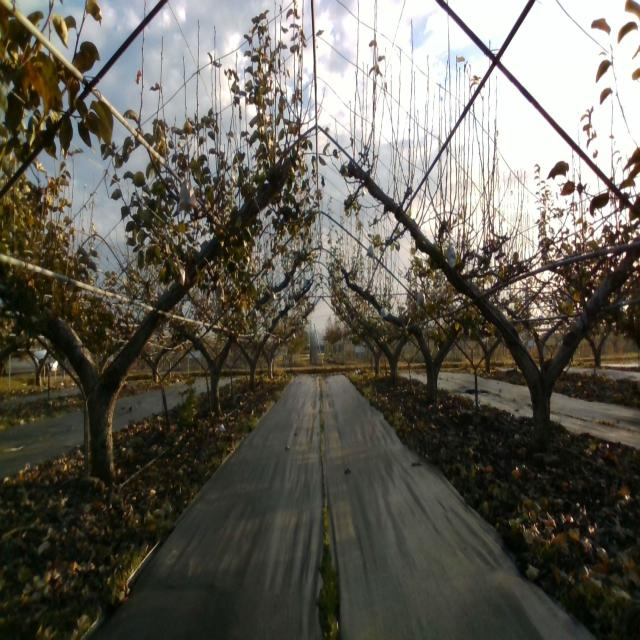pearbags: (175, 175, 197, 212), (446, 240, 457, 268)
